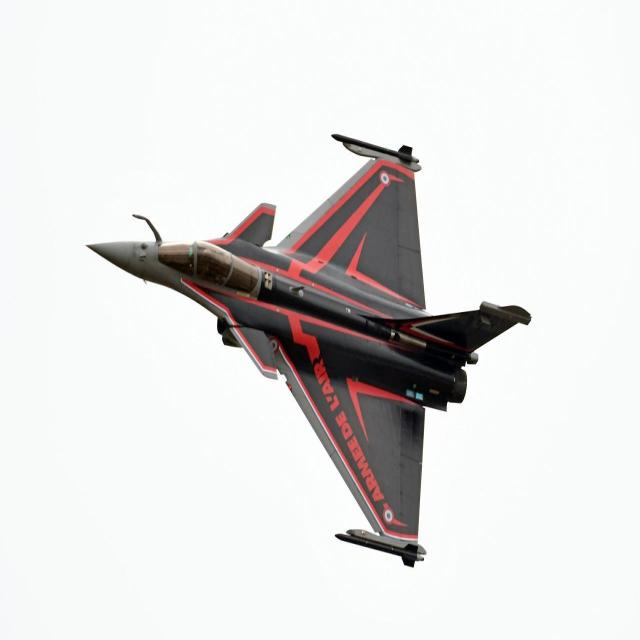MIL_Plane: (84, 134, 531, 568)
